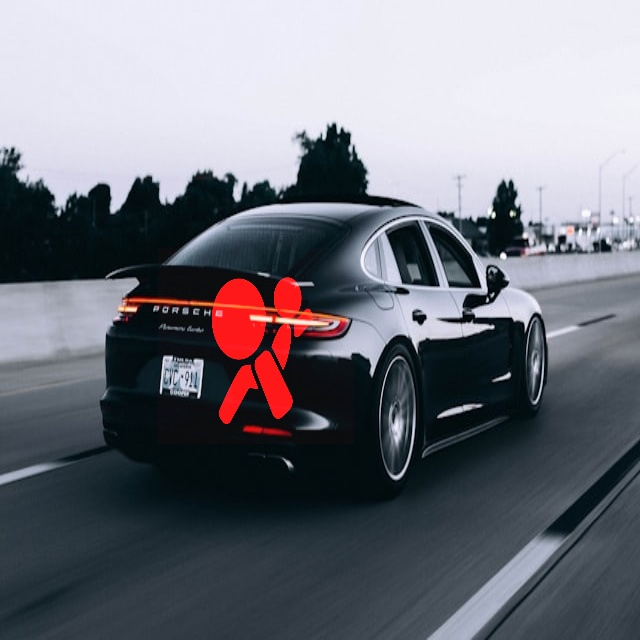symbol: (158, 248, 354, 444), (106, 36, 250, 180)
